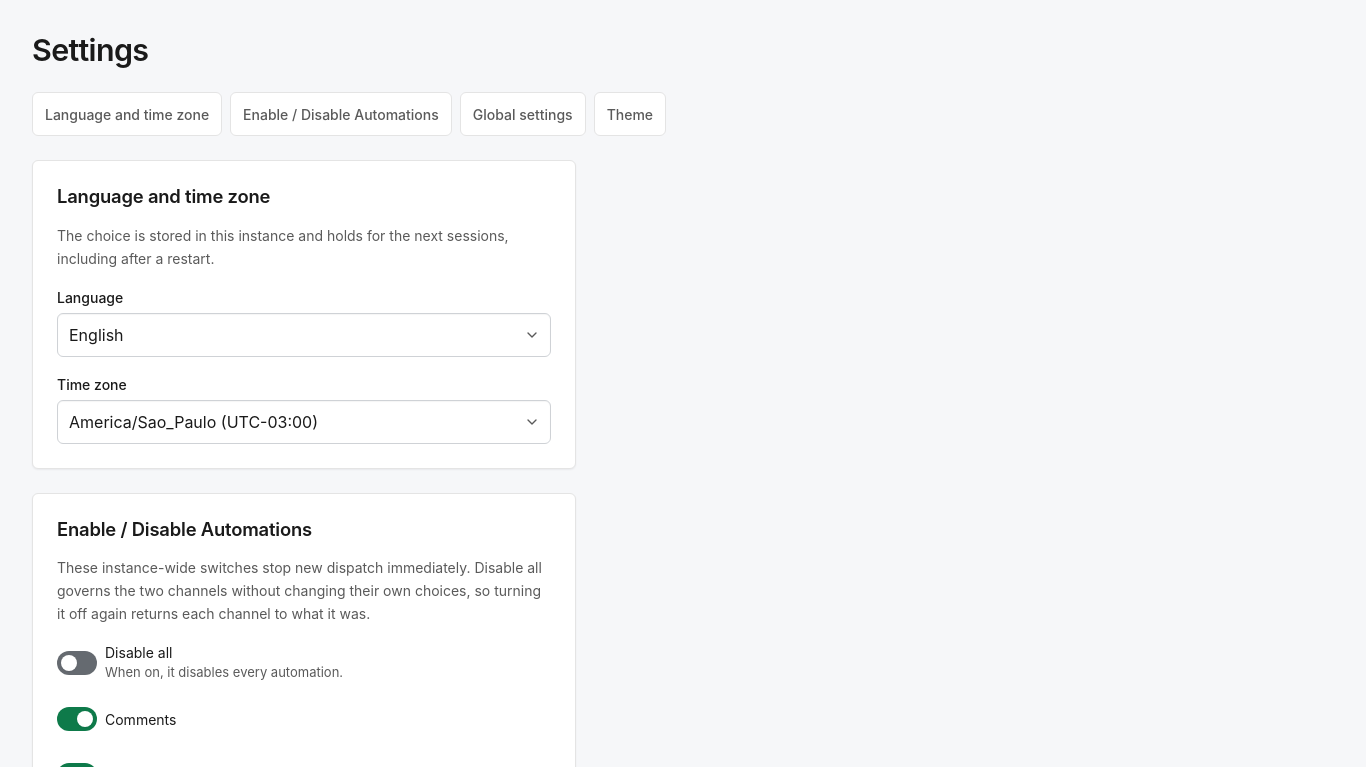
Test: REQ-183: the zone is changed here, and holds with no restart › keeps the previous zone, and says so, when it could not be stored
Select "Asia/Tokyo (UTC+09:00)" in the dropdown labelled "Time zone". click: (304, 422)
box: [57,400,551,444]
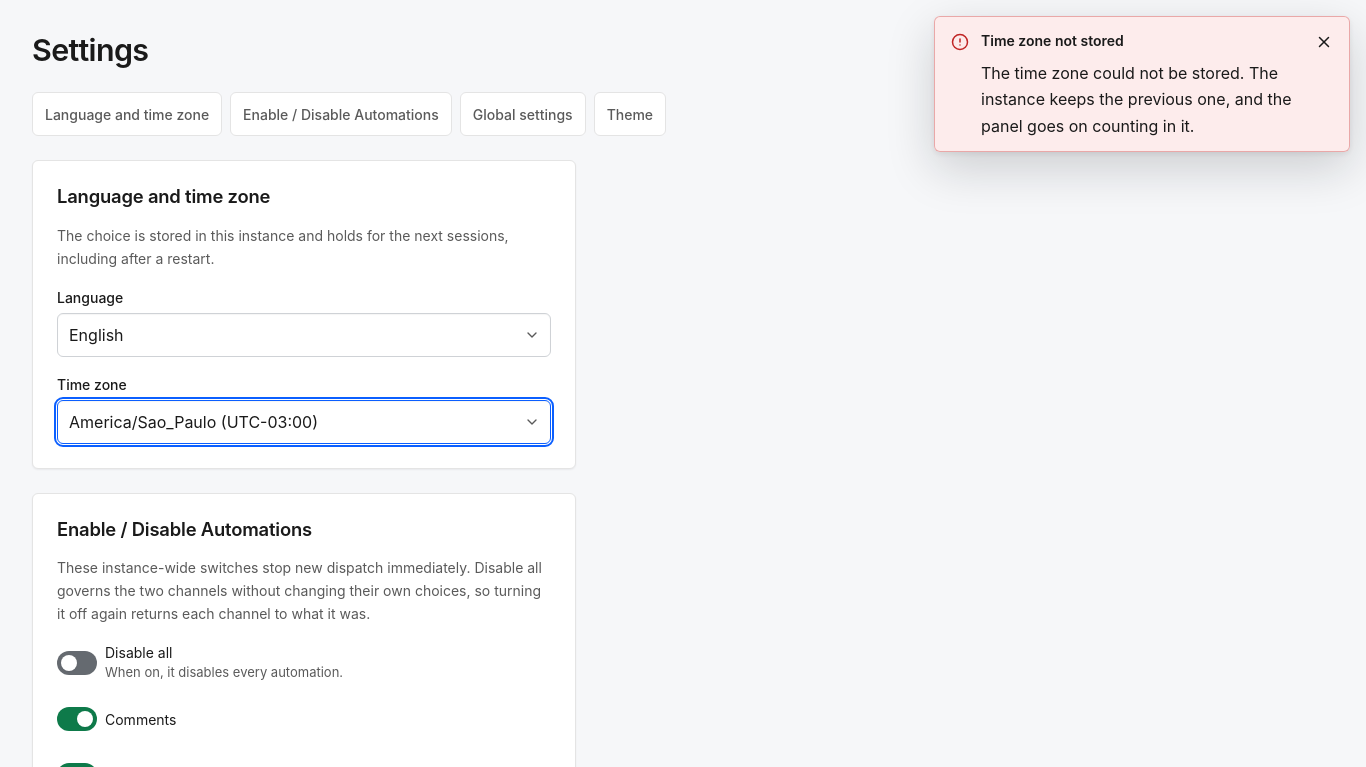
Expected: the message shows "Time zone not stored", [981,32,1124,49]
Expected: the message shows "The time zone could not be stored. The instance keeps the previous one, and the panel goes on counting in it.", [981,63,1292,136]
